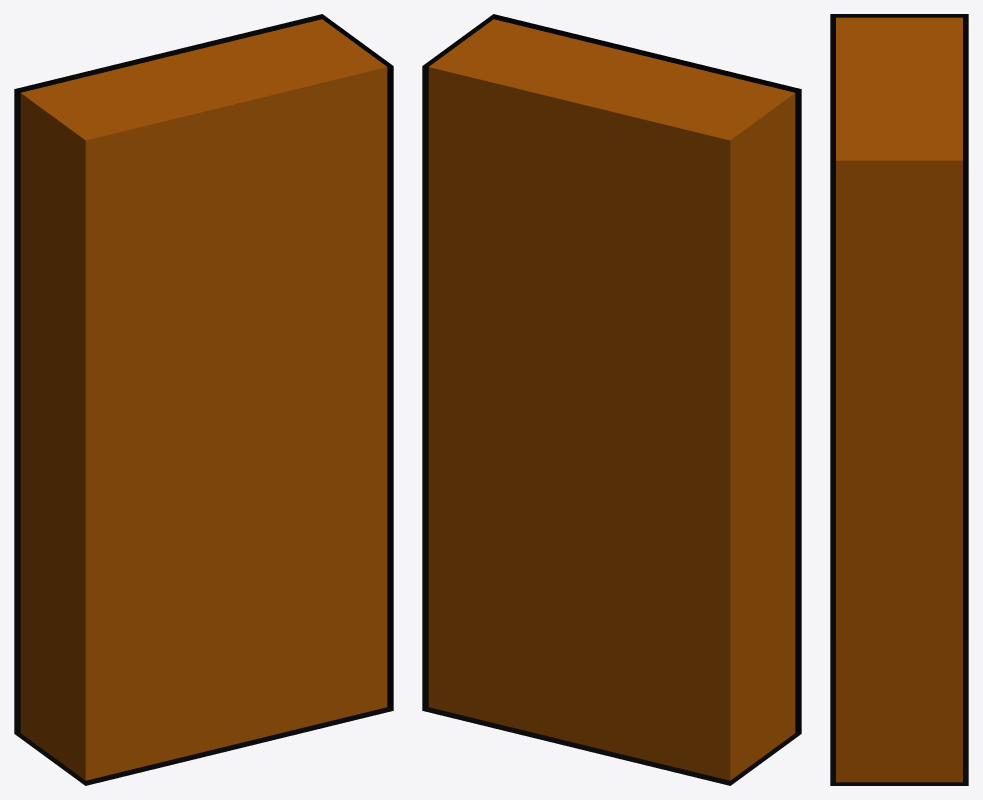
The model's file is Solid Door.fbx.
3 views of the same model, side by side, from view 1: azimuth 30°, elevation 25°; view 2: azimuth 150°, elevation 25°; view 3: azimuth 270°, elevation 25° (orthographic). The views are drawn at different scales.
Visible parts, largest first — view 1: polySurface311; view 2: polySurface311; view 3: polySurface311.
Boxes of the visible parts, box(x1,y1,x2,y2) form: polySurface311: box(14, 14, 393, 785); polySurface311: box(422, 14, 801, 785); polySurface311: box(830, 14, 968, 785).
Size of the model in its own units: 5 by 10 by 2.
